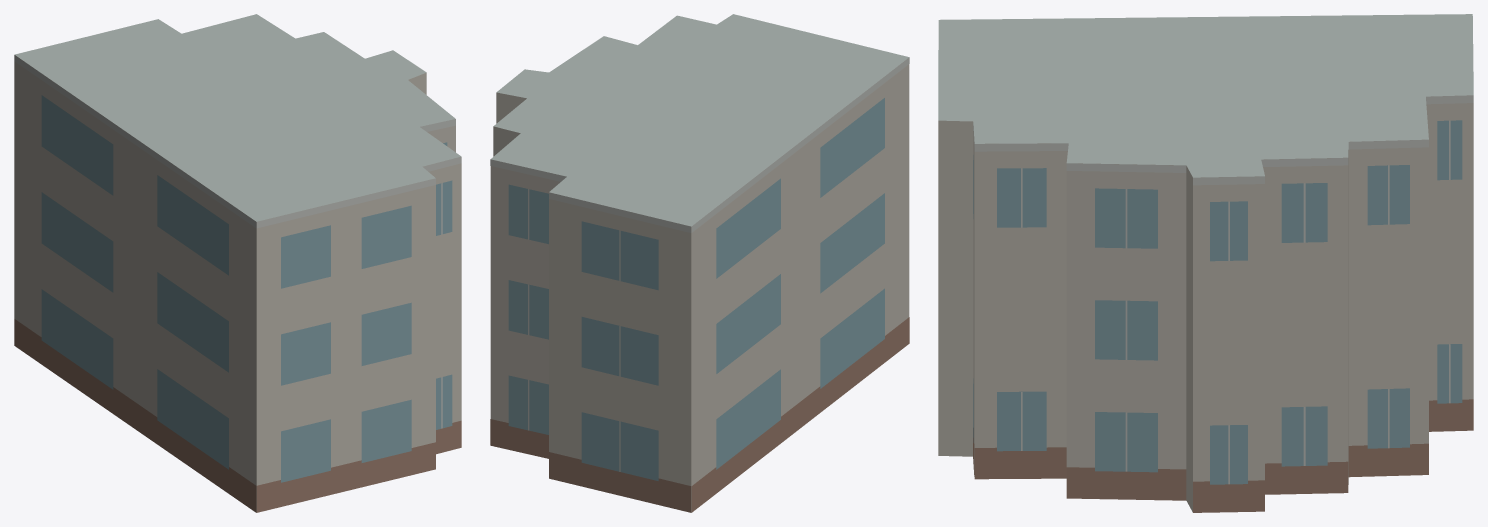
File: survey-upis-32589575.glb
3 views of the same model, side by side, from view 1: azimuth 30°, elevation 25°; view 2: azimuth 150°, elevation 25°; view 3: azimuth 270°, elevation 25° (orthographic). The views are drawn at different scales.
Parts seen in each view (by area): view 1: survey-upis-32589575.tmp; view 2: survey-upis-32589575.tmp; view 3: survey-upis-32589575.tmp.
Boxes of the visible parts, x1,y1,x2,y2 form: survey-upis-32589575.tmp: [14, 14, 461, 512]; survey-upis-32589575.tmp: [490, 14, 909, 512]; survey-upis-32589575.tmp: [938, 14, 1473, 512].
Bounding box in the file's own units: 11.1 × 10.6 × 15.36.
